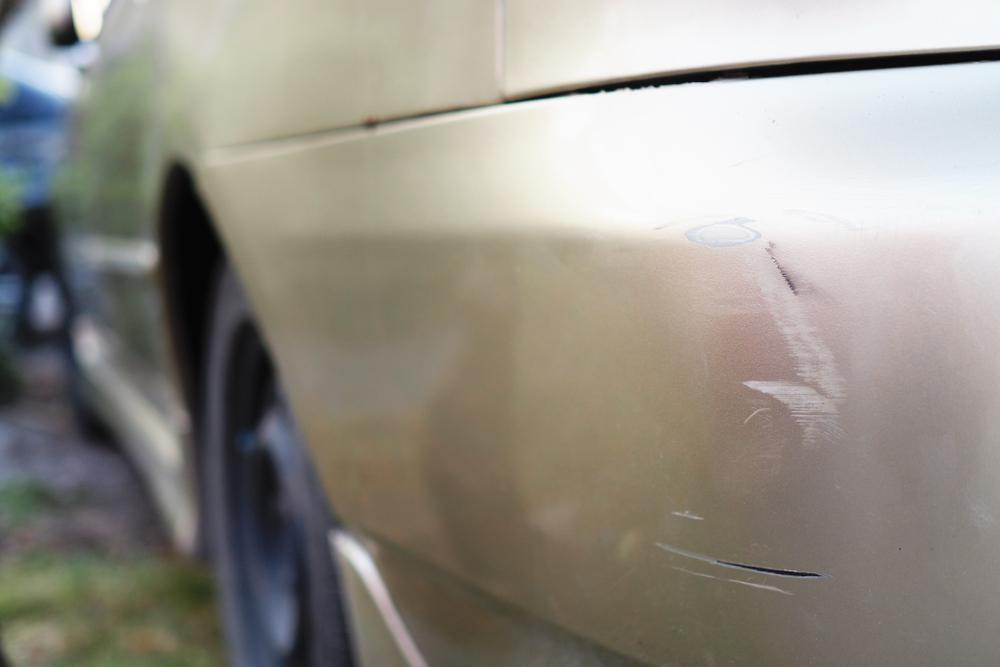scratch: (683, 204, 858, 478), (647, 502, 832, 601)
